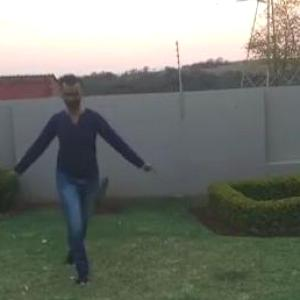land: (15, 74, 133, 247)
